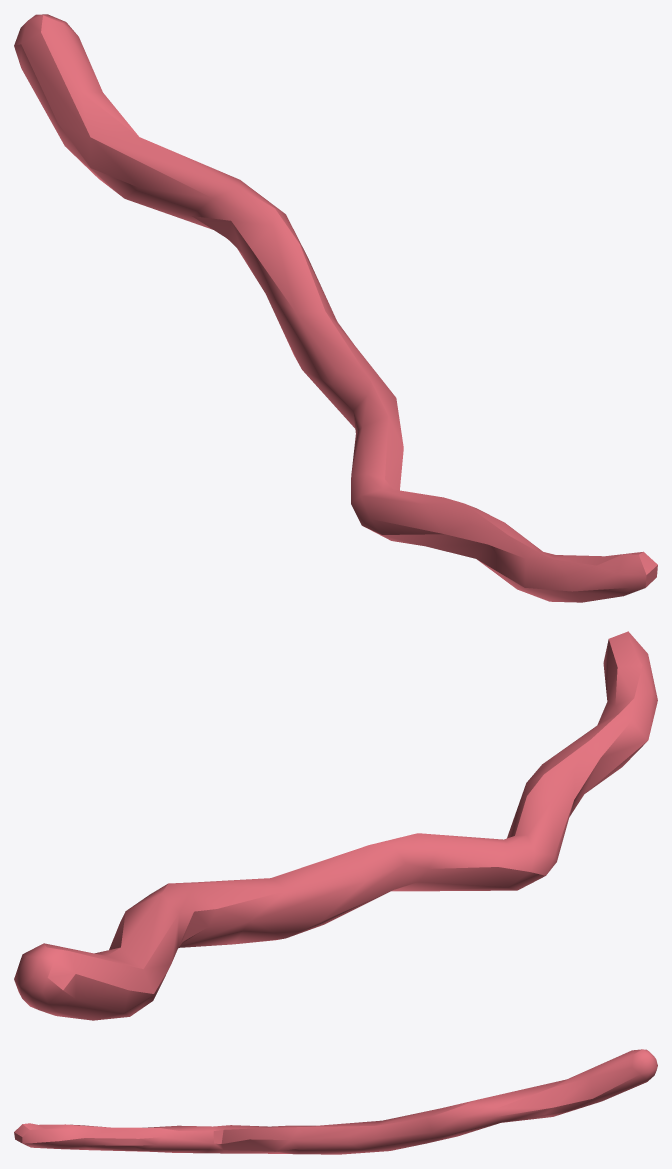
The model's file is fma3837_fj2722.glb.
The picture shows the model from 3 angles, top to bottom: view 1: azimuth 30°, elevation 25°; view 2: azimuth 150°, elevation 25°; view 3: azimuth 270°, elevation 25°; orthographic projection. The views are drawn at different scales.
Visible parts, largest first — view 1: FMA3837_FJ2722; view 2: FMA3837_FJ2722; view 3: FMA3837_FJ2722.
Boxes of the visible parts, <box> form: FMA3837_FJ2722: <box>14,14,657,602</box>; FMA3837_FJ2722: <box>14,631,657,1020</box>; FMA3837_FJ2722: <box>14,1049,657,1154</box>.
Bounding box in the file's own units: 0.00253 × 0.0035 × 0.0175.
